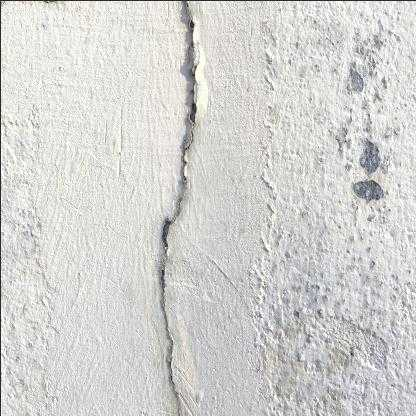crack: (157, 0, 199, 416)
